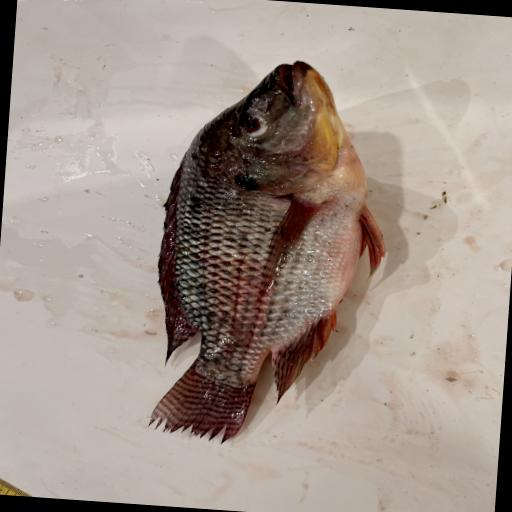Tilapia: (145, 52, 399, 455)
